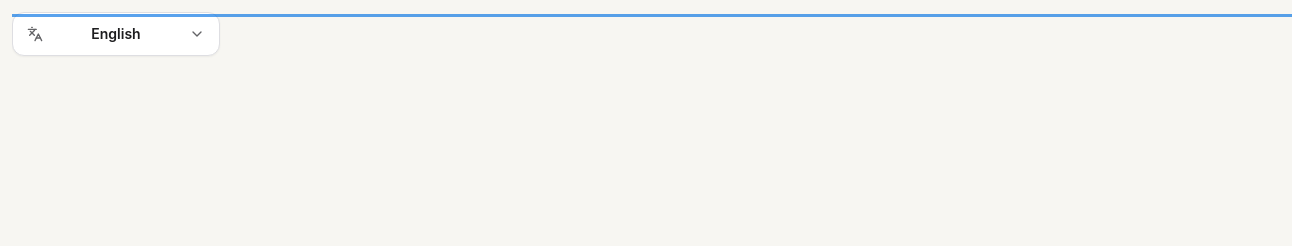
it: LanguagePicker › switches to Amharic, persists it, and stays left-to-right
Press ArrowDown in the dropdown, box [12, 12, 220, 56]
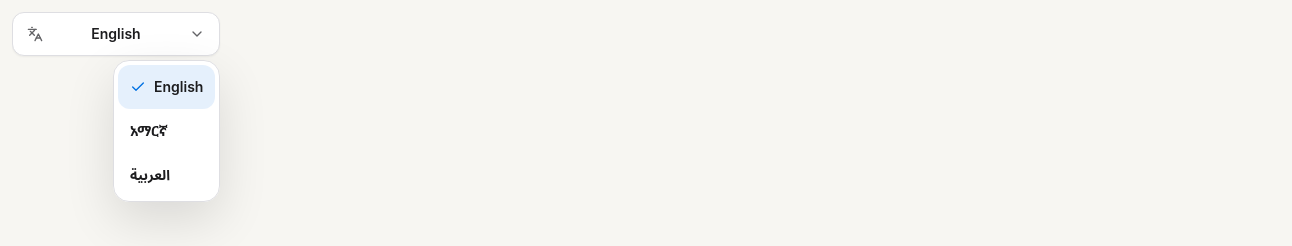
Click the option "አማርኛ" at (149, 130), box [130, 122, 168, 139]
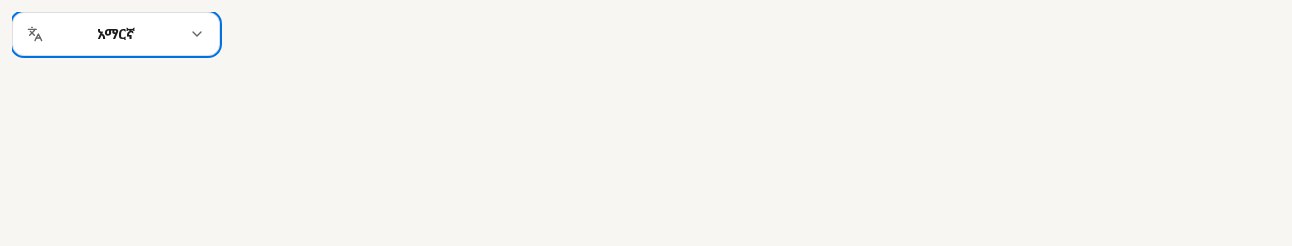
Check: the dropdown named "ቋንቋ" is shown, box [12, 12, 220, 56]
